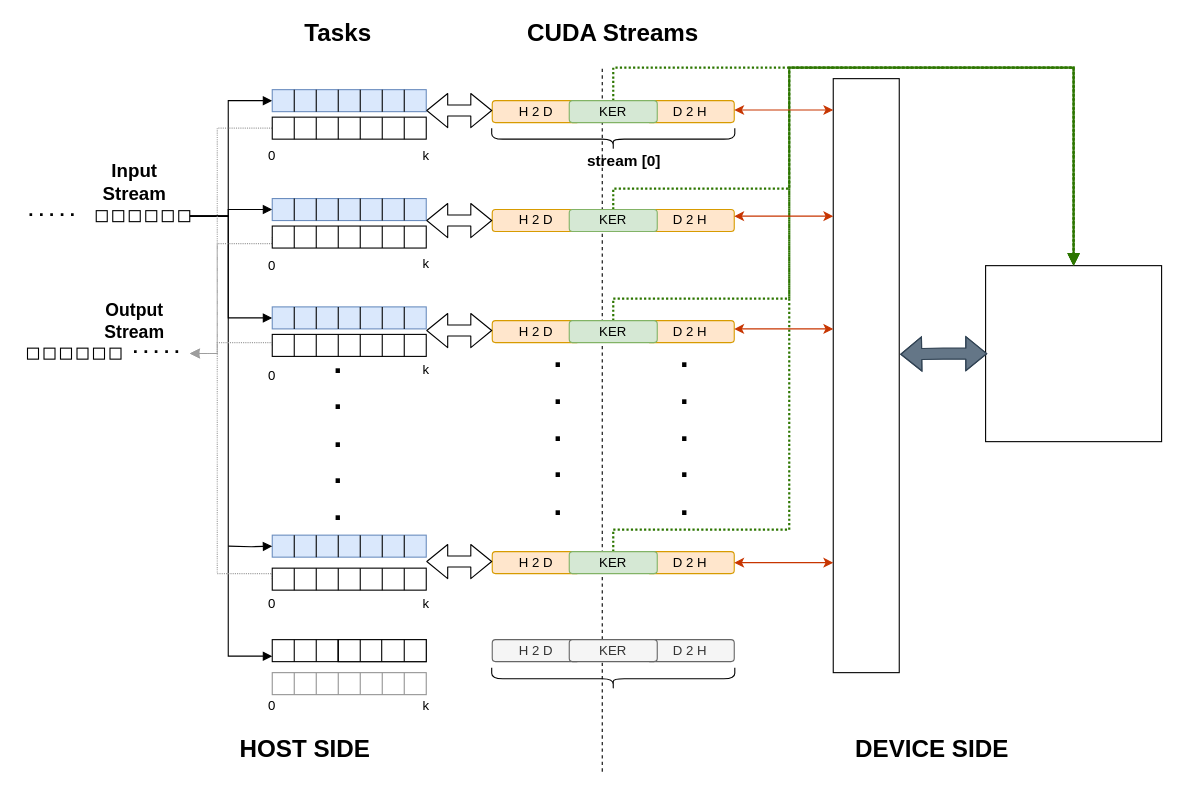
The diagram is 1180 pixels wide and 792 high, and some of its shapes have lost their labels. The centre of each missing label's shape, as x and y in pixels:
Global Memory: (865,375)
GPU Cores: (1073,353)
stream [N]: (613,678)
